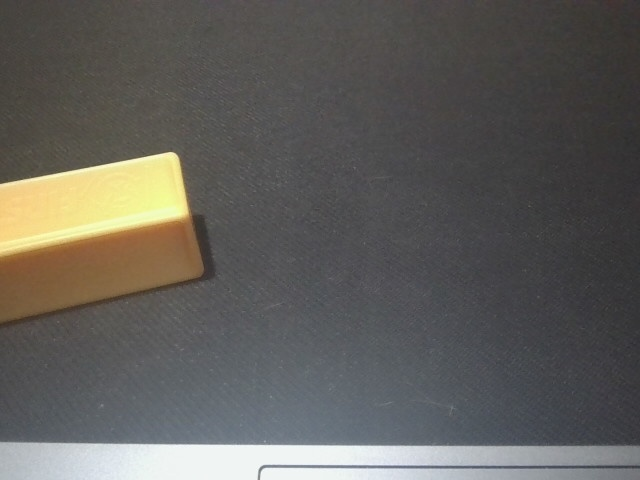YellowSample: (1, 146, 211, 328)
